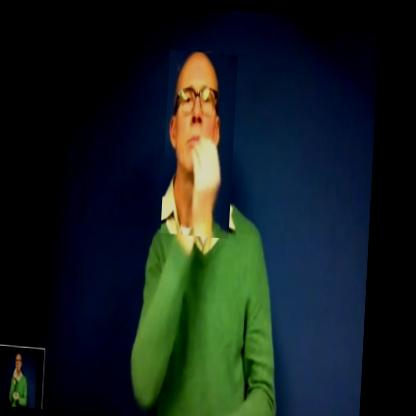Food: (160, 48, 238, 237)
